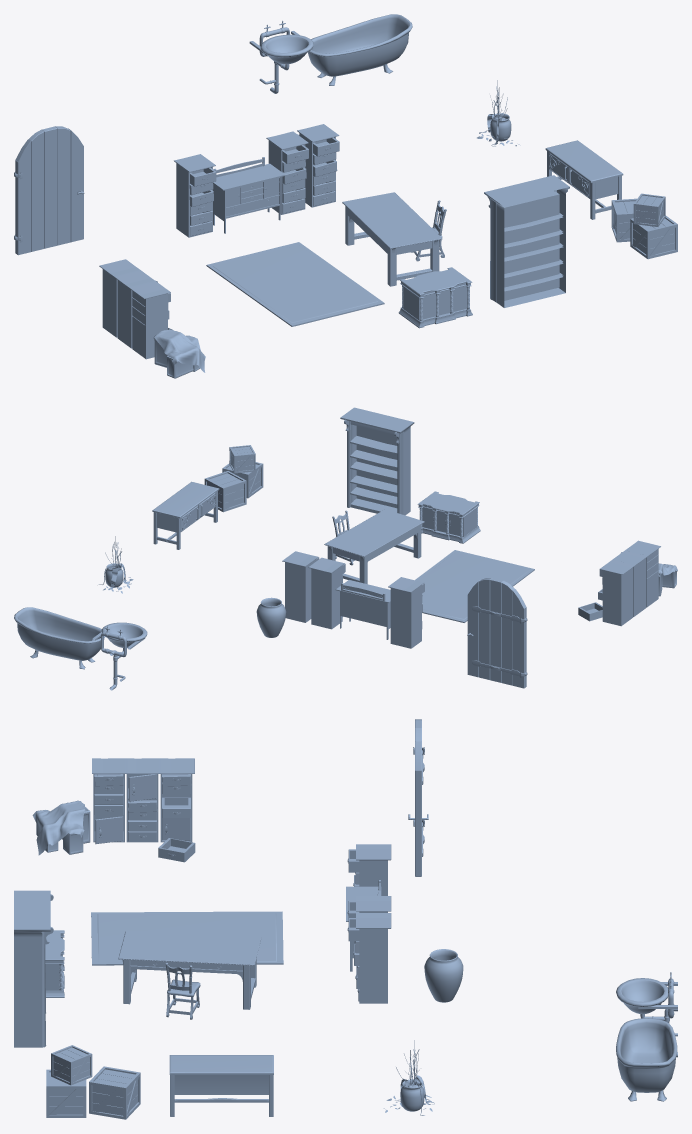
File: SM_study.fbx
3 views of the same model, one above another, from view 1: azimuth 30°, elevation 25°; view 2: azimuth 150°, elevation 25°; view 3: azimuth 270°, elevation 25° (orthographic). The views are drawn at different scales.
Parts seen in each view (by area): view 1: polySurface1 (×2), polySurface679, Dining_table_v01:Dining_table_v01:polySurface145, polySurface271, Tub2, Desk:polySurface1, pCylinder56, table02:polySurface1, polySurface753, polySurface758, polySurface757, polySurface743 (+7 smaller); view 2: polySurface679, Dining_table_v01:Dining_table_v01:polySurface145, polySurface1 (×2), polySurface271, Tub2, table02:polySurface1, pCylinder56, polySurface742, polySurface753, polySurface757, Desk:polySurface1, polySurface758 (+8 smaller); view 3: polySurface1 (×3), polySurface271, polySurface679, table02:polySurface1, Tub2, polySurface742, polySurface758, polySurface741, polySurface743, Blanket_Box:polySurface1, polySurface2, pCylinder55 (+8 smaller).
Part boxes in pixels (x1,y1,x2,y2): polySurface1 (×2): (206,215,677,326); polySurface679: (484,175,569,307); Dining_table_v01:Dining_table_v01:polySurface145: (14,126,84,255); polySurface271: (342,192,442,286); Tub2: (307,14,412,85); Desk:polySurface1: (213,157,285,233); pCylinder56: (398,267,472,328); table02:polySurface1: (545,140,623,219); polySurface753: (174,154,216,237); polySurface758: (297,124,339,207); polySurface757: (266,131,308,214); polySurface743: (128,281,172,359); polySurface679: (340,407,414,515); Dining_table_v01:Dining_table_v01:polySurface145: (467,578,527,688); polySurface1 (×2): (222,462,534,622); polySurface271: (324,509,424,584); Tub2: (14,607,104,669); table02:polySurface1: (152,481,219,549); pCylinder56: (417,491,480,543); polySurface742: (578,559,635,626); polySurface753: (388,577,424,648); polySurface757: (308,557,345,629); Desk:polySurface1: (335,580,390,639); polySurface758: (282,551,319,622); polySurface1 (×3): (46,911,283,1117); polySurface271: (118,931,261,1009); polySurface679: (14,890,53,1047); table02:polySurface1: (169,1055,273,1116); Tub2: (616,1018,677,1101); polySurface742: (158,758,195,862); polySurface758: (347,913,391,1003); polySurface741: (125,758,160,842); polySurface743: (92,758,127,844); Blanket_Box:polySurface1: (32,800,90,855); polySurface2: (89,1066,140,1119); pCylinder55: (616,972,677,1057).
Size of the model in its own units: 1184 by 279 by 1153.
